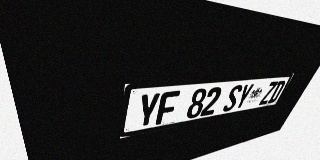2: (200, 86, 223, 117)
8: (185, 88, 209, 119)
D: (267, 80, 287, 104)
F: (155, 90, 180, 125)
S: (222, 84, 244, 112)
Y: (135, 92, 161, 129), (233, 83, 255, 110)
Z: (258, 81, 279, 105)
